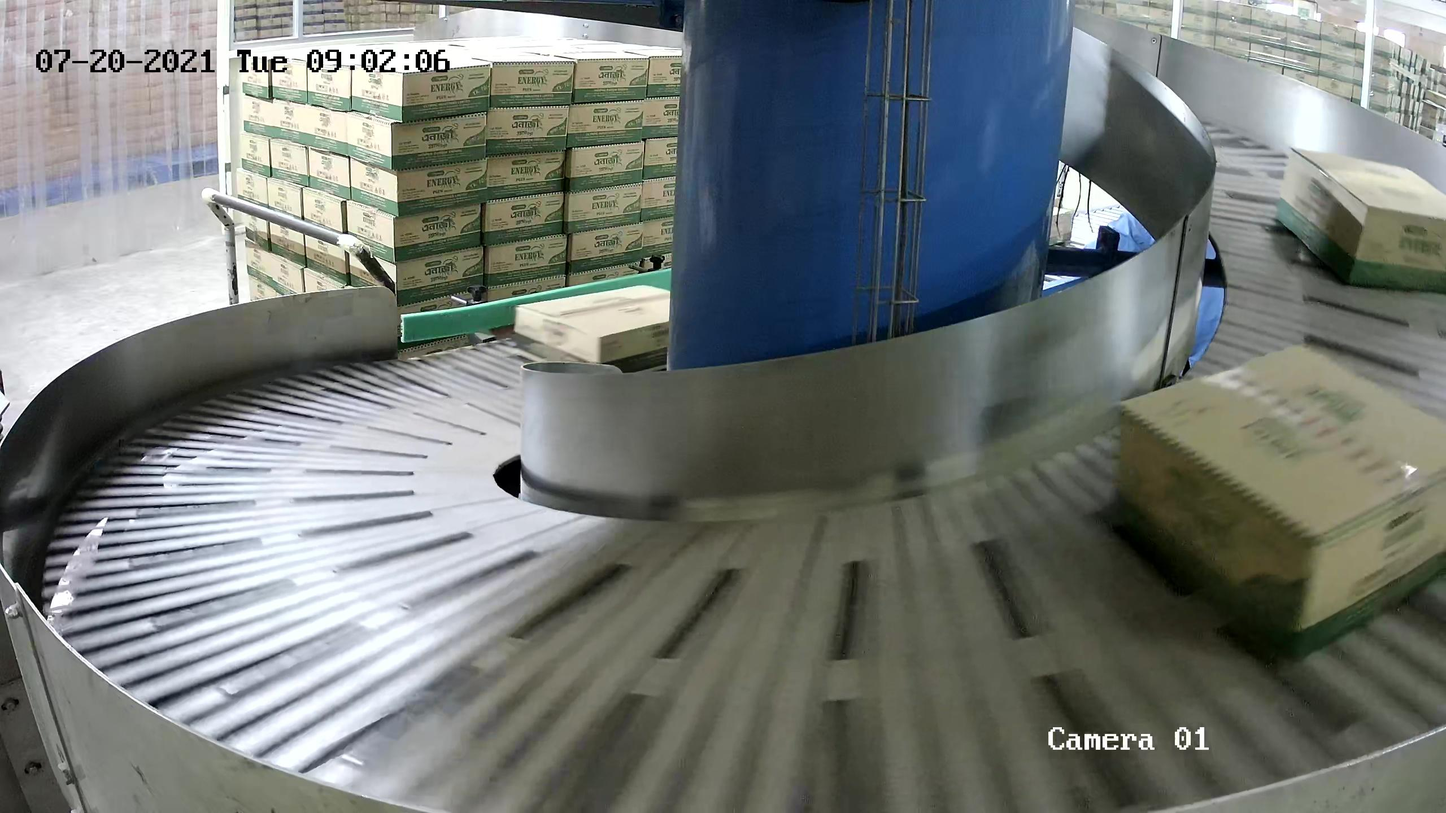Box: (1112, 339, 1446, 661), (1271, 145, 1446, 298), (513, 279, 712, 379)
